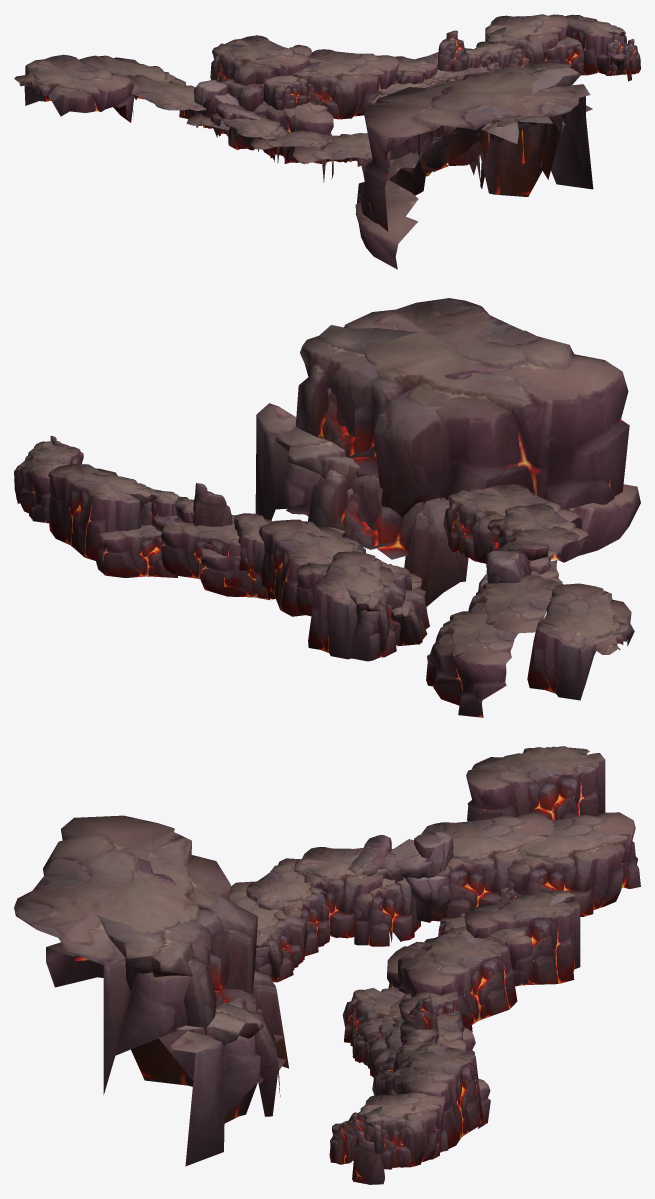
File: yanshi17_1.fbx
3 views of the same model, one above another, from view 1: azimuth 30°, elevation 25°; view 2: azimuth 150°, elevation 25°; view 3: azimuth 270°, elevation 25° (orthographic). The views are drawn at different scales.
Parts seen in each view (by area): view 1: yanshi17_1; view 2: yanshi17_1; view 3: yanshi17_1.
Boxes of the visible parts, bbox=[...] form: yanshi17_1: bbox=[14, 14, 640, 269]; yanshi17_1: bbox=[14, 298, 640, 717]; yanshi17_1: bbox=[14, 746, 640, 1184].
Size of the model in its own units: 17880 by 4895 by 13604.
